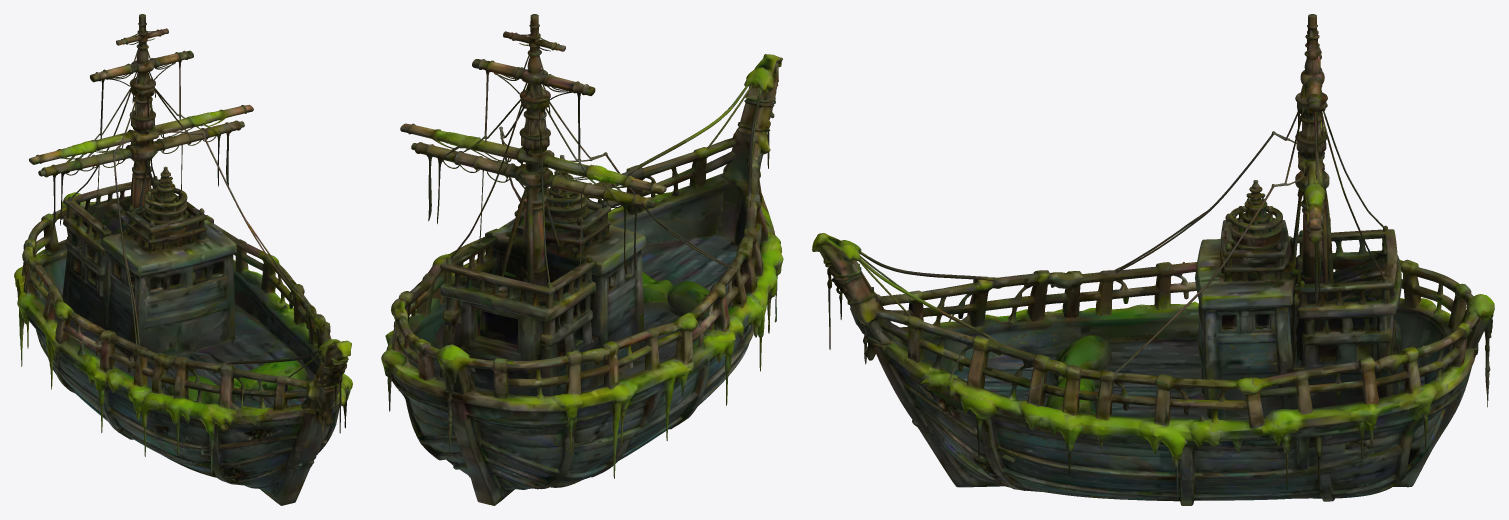
The model's file is ship-mobile-DqhR-WZ3.glb.
3 views of the same model, side by side, from view 1: azimuth 30°, elevation 25°; view 2: azimuth 150°, elevation 25°; view 3: azimuth 270°, elevation 25° (orthographic). The views are drawn at different scales.
Parts seen in each view (by area): view 1: material; view 2: material; view 3: material.
Part boxes in pixels (box(x1,y1,x2,y2)): material: box(14, 14, 352, 505); material: box(381, 14, 783, 505); material: box(812, 14, 1494, 505).
Bounding box in the file's own units: 0.4997 × 0.8218 × 1.09.
1 material, 1 textured.
